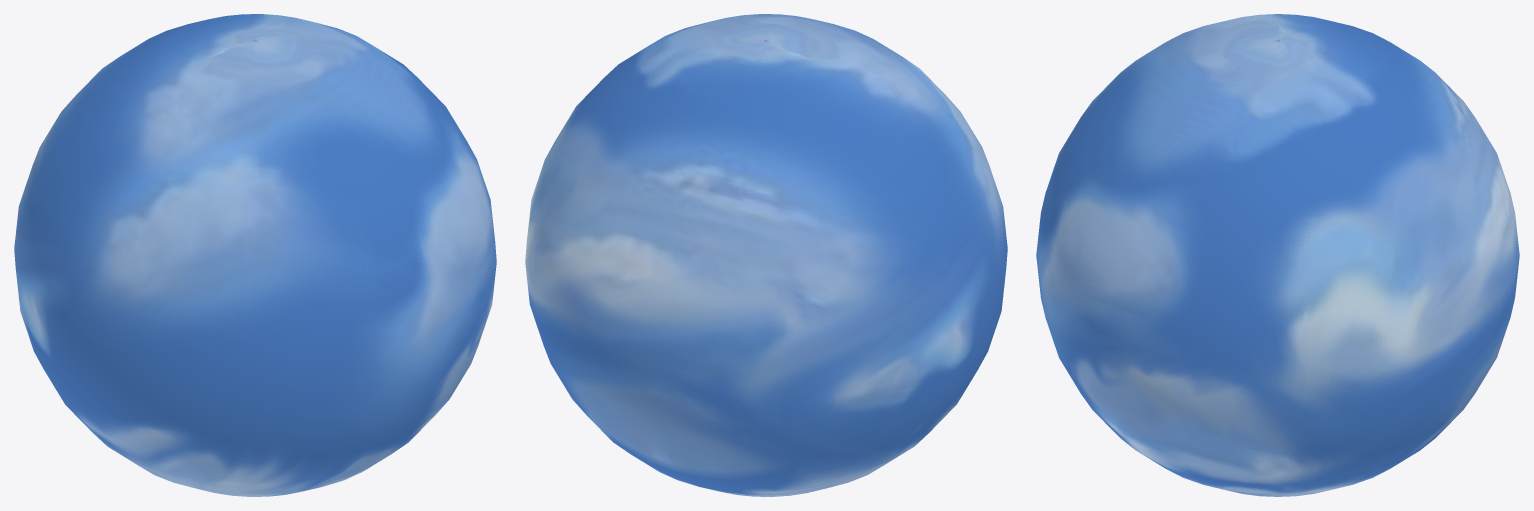
The model's file is sky2.glb.
3 renders of one model, left to right at view 1: azimuth 30°, elevation 25°; view 2: azimuth 150°, elevation 25°; view 3: azimuth 270°, elevation 25°, orthographic.
Parts seen in each view (by area): view 1: Sphere; view 2: Sphere; view 3: Sphere.
Boxes of the visible parts, box(x1,y1,x2,y2) form: Sphere: box(14, 14, 496, 496); Sphere: box(525, 14, 1007, 496); Sphere: box(1036, 14, 1519, 496).
Size of the model in its own units: 2 by 1.96 by 2.
1 material, 1 textured.
